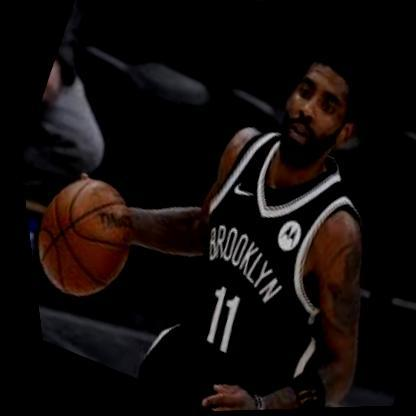basketball: (16, 162, 153, 312)
